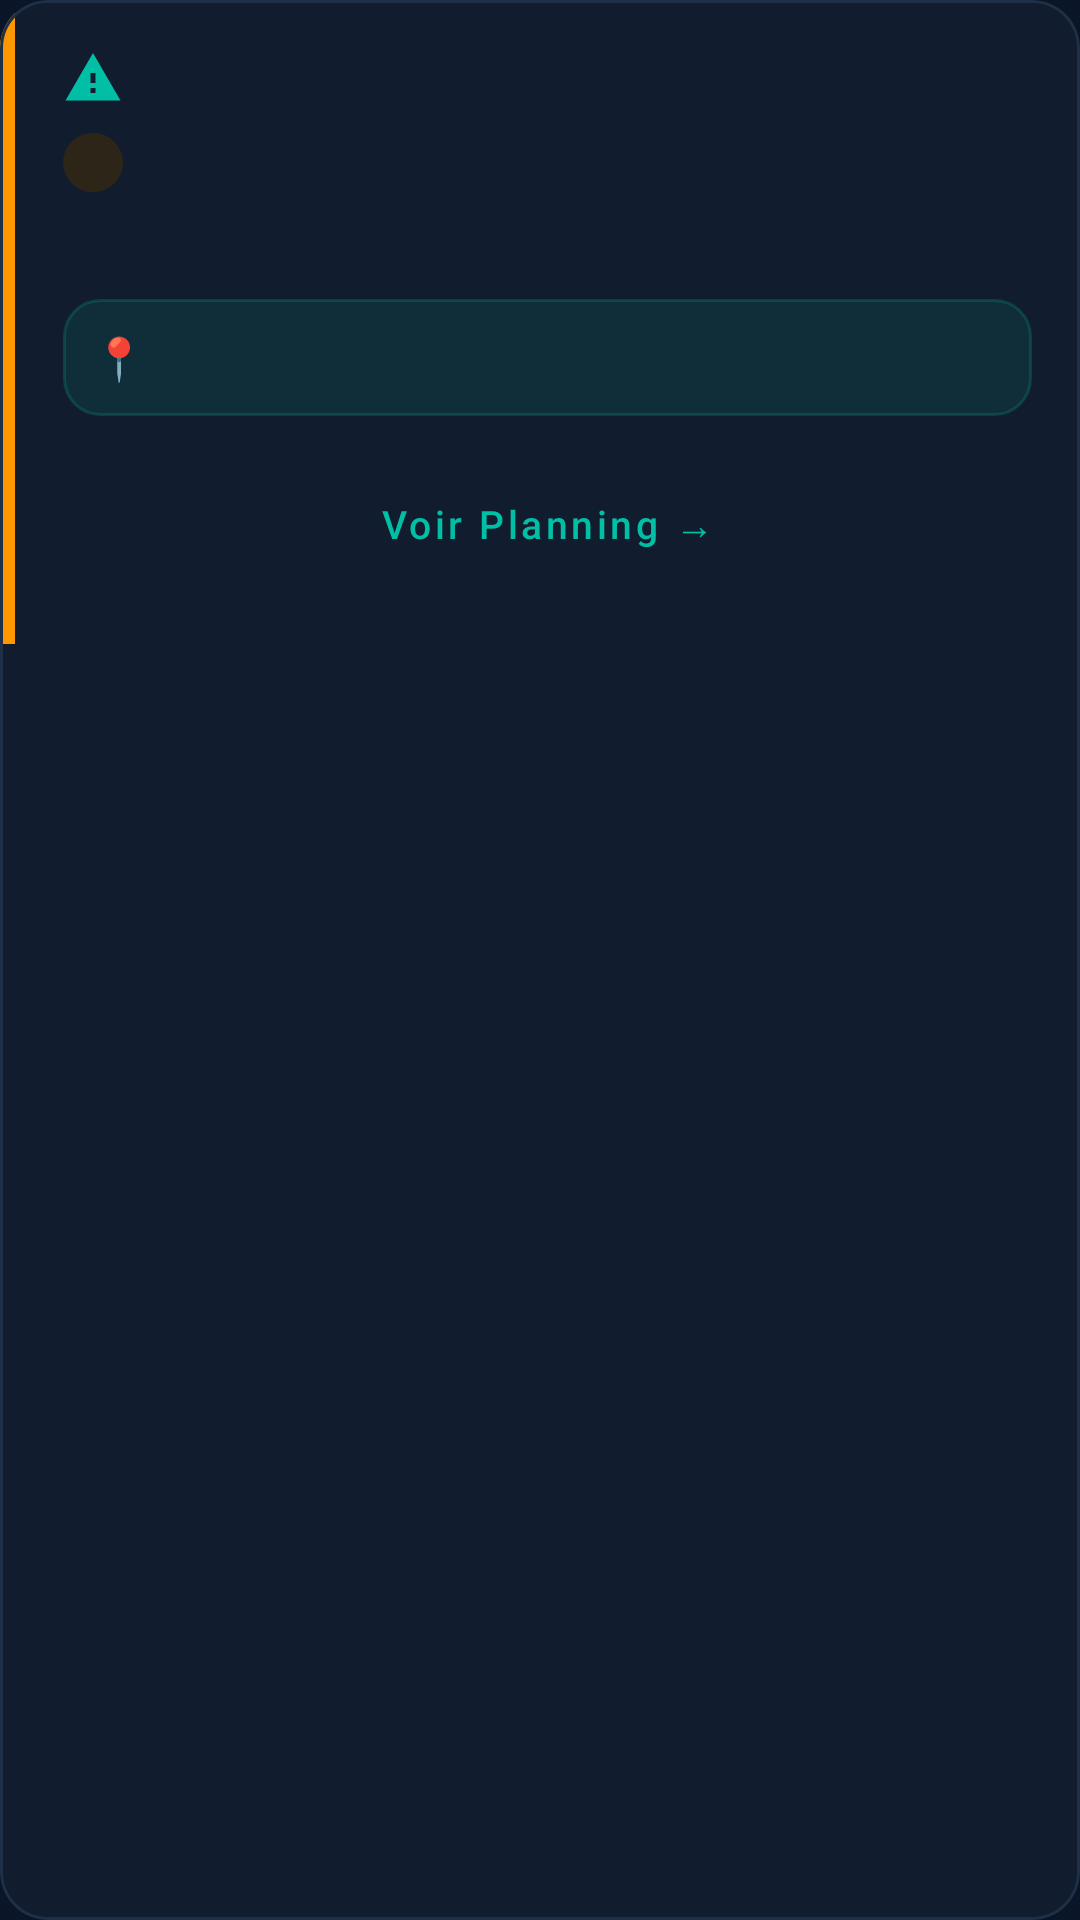

Icons on this 1080px x 1920px Android screen, each with its box as box=[x1, y1, x2, y2]:
Alert severity: box=[65, 53, 121, 101]
